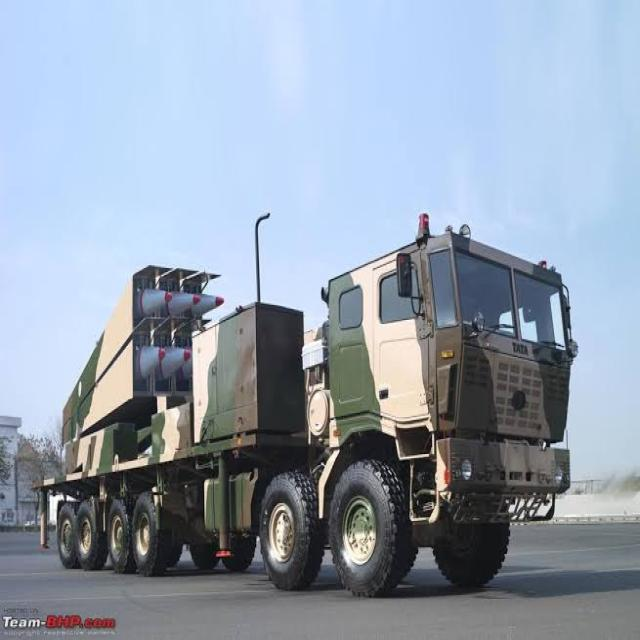truck: (38, 213, 576, 597)
